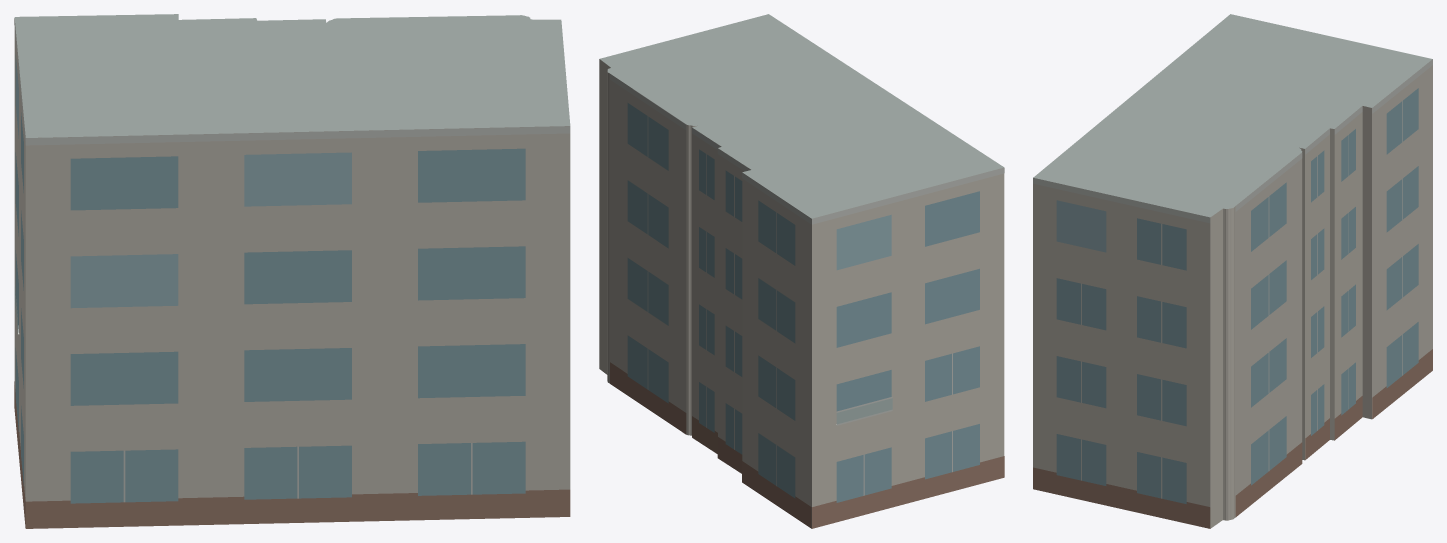
Rendered from survey-upis-32656170.glb.
3 views of the same model, side by side, from view 1: azimuth 30°, elevation 25°; view 2: azimuth 150°, elevation 25°; view 3: azimuth 270°, elevation 25° (orthographic). The views are drawn at different scales.
Parts seen in each view (by area): view 1: survey-upis-32656170.tmp; view 2: survey-upis-32656170.tmp; view 3: survey-upis-32656170.tmp.
Boxes of the visible parts, left/top/right/bottom form: survey-upis-32656170.tmp: left=14, top=14, right=570, bottom=528; survey-upis-32656170.tmp: left=599, top=14, right=1004, bottom=528; survey-upis-32656170.tmp: left=1033, top=14, right=1432, bottom=528.
Bounding box in the file's own units: 17.77 × 12.68 × 14.76.
